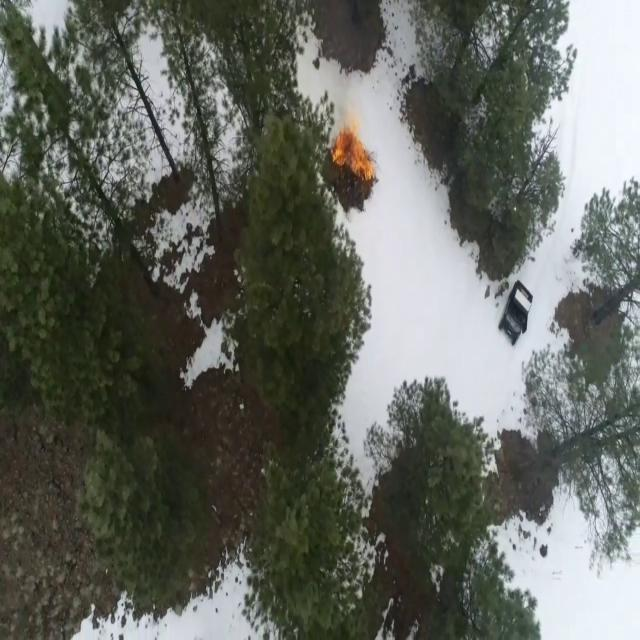fire: (332, 126, 375, 182)
